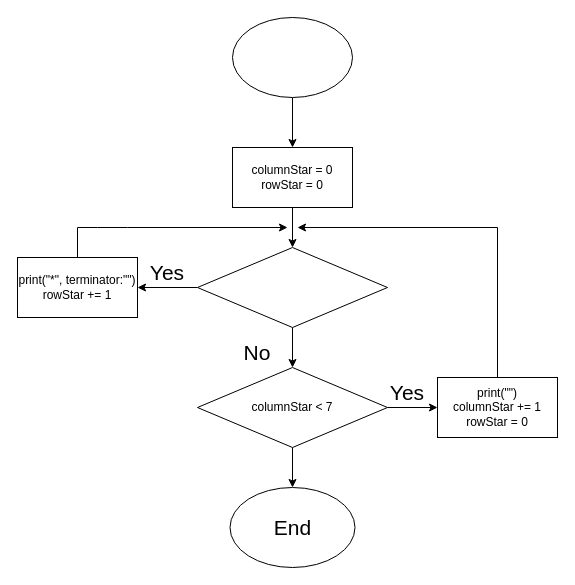
Image size: 575x585. Some labels were removed from this diagram. Here are the shapes that lost their labels. From the top down, the box of each, then its label:
(232, 16, 352, 98): Start
(196, 246, 388, 328): rowStar < 10
